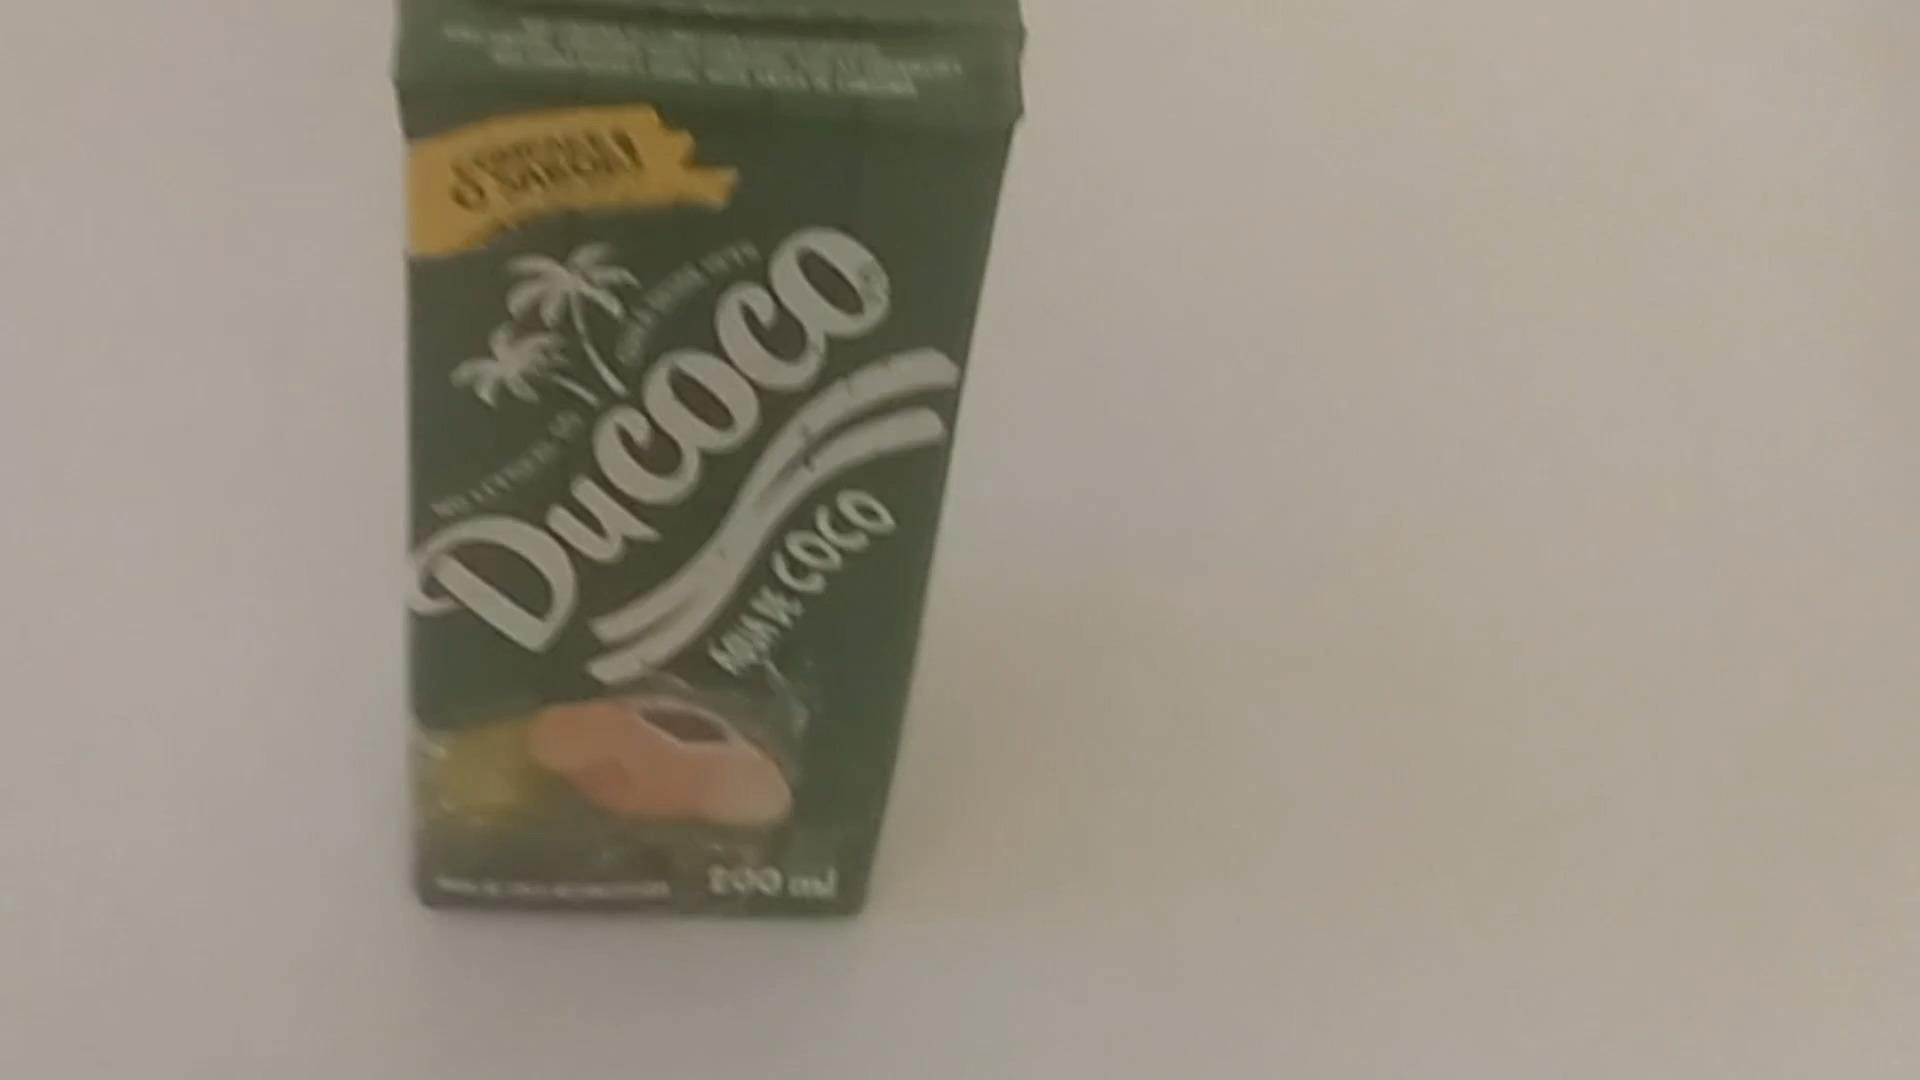coco: (396, 3, 1029, 927)
